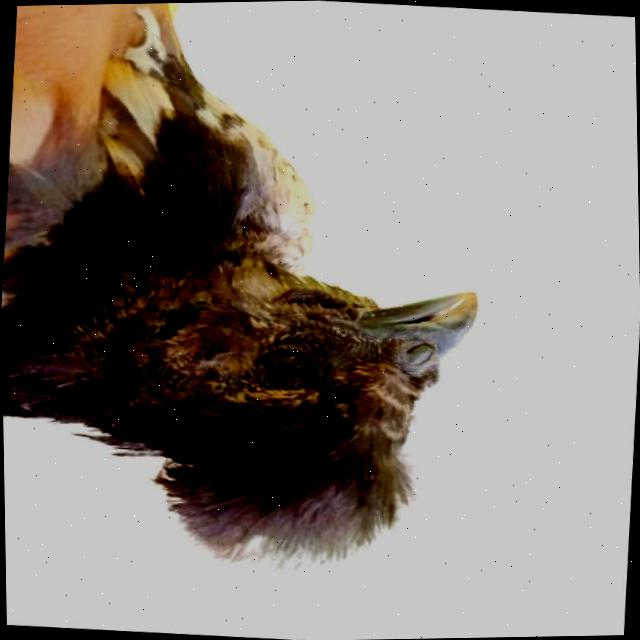Coryza: (206, 300, 372, 425)
